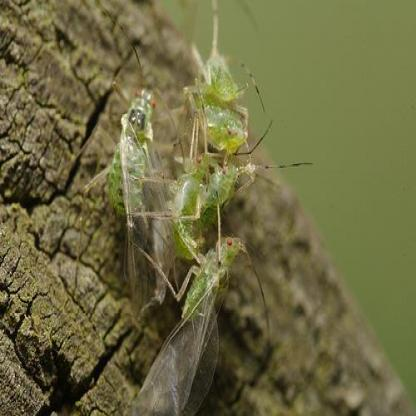aphid: (141, 231, 270, 416), (103, 49, 167, 280), (180, 13, 259, 110), (189, 82, 260, 164), (183, 148, 253, 221), (170, 164, 204, 272)
